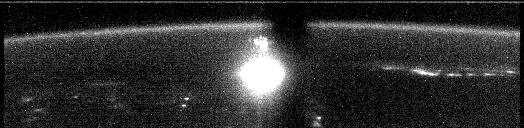positive: (250, 34, 272, 56)
